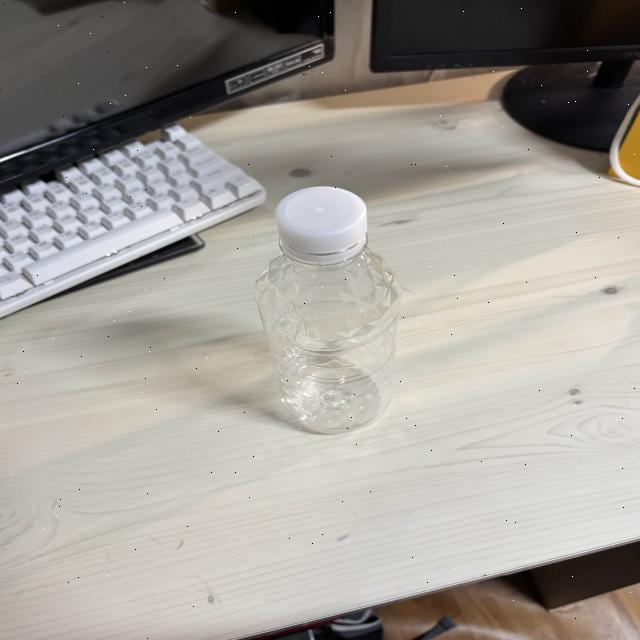Plastic: (236, 168, 424, 457)
